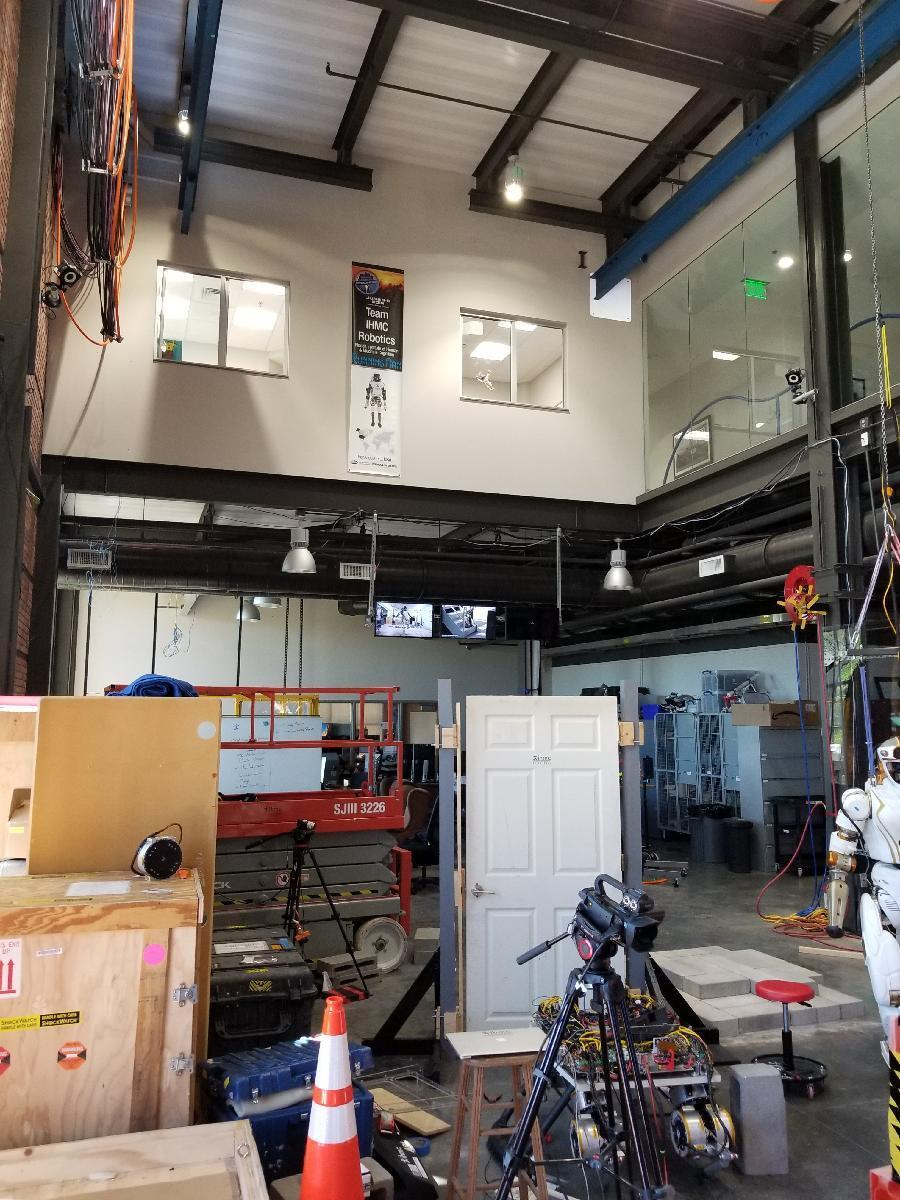door: (466, 690, 619, 1028)
